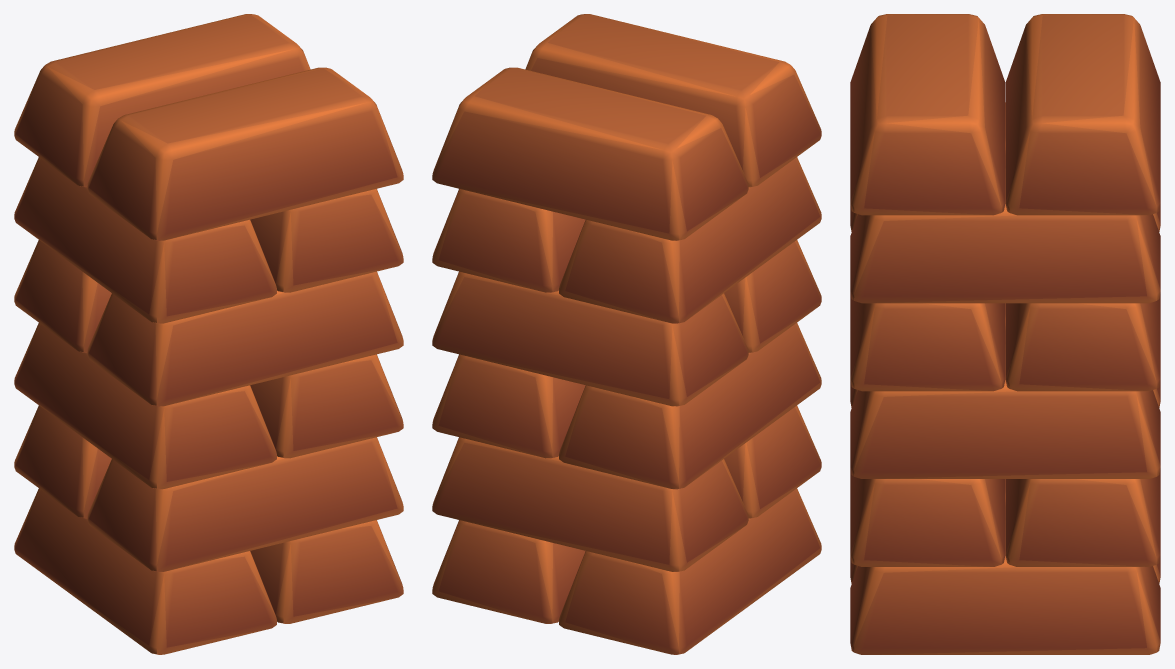
The model's file is Copper_Bars_Stack_Medium.glb.
3 views of the same model, side by side, from view 1: azimuth 30°, elevation 25°; view 2: azimuth 150°, elevation 25°; view 3: azimuth 270°, elevation 25° (orthographic). The views are drawn at different scales.
Parts seen in each view (by area): view 1: Copper_Bars_Stack_Medium; view 2: Copper_Bars_Stack_Medium; view 3: Copper_Bars_Stack_Medium.
Boxes of the visible parts, left/top/right/bottom form: Copper_Bars_Stack_Medium: left=14, top=14, right=403, bottom=654; Copper_Bars_Stack_Medium: left=432, top=14, right=821, bottom=654; Copper_Bars_Stack_Medium: left=850, top=14, right=1160, bottom=654.
Bounding box in the file's own units: 0.8 × 1.5 × 0.8.
Materials: 1 (1 with a texture image).
